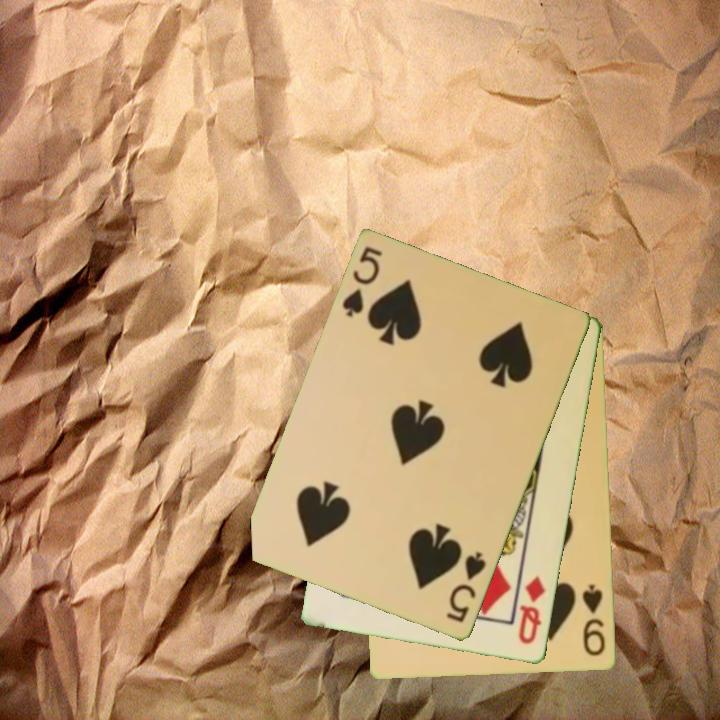5s: (443, 548, 489, 626), (339, 243, 385, 321)
9s: (579, 581, 609, 659)
Qd: (515, 573, 549, 648)
